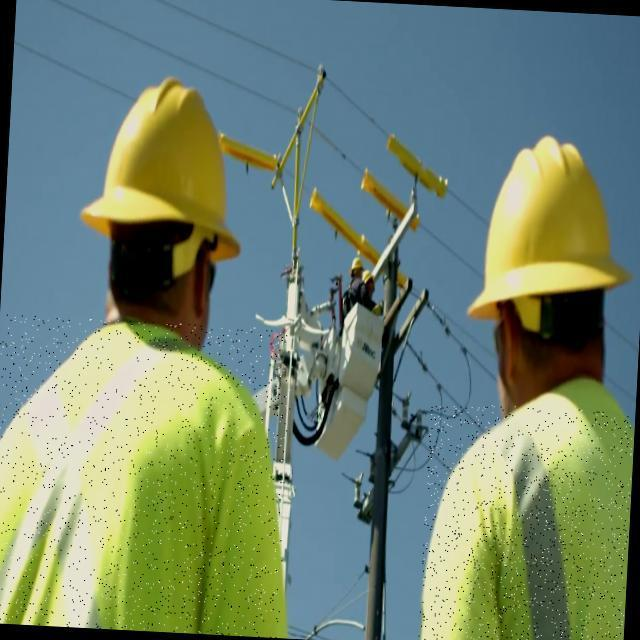helmet: (81, 61, 251, 272), (475, 129, 639, 316)
vest: (0, 314, 294, 638), (418, 402, 634, 640)
